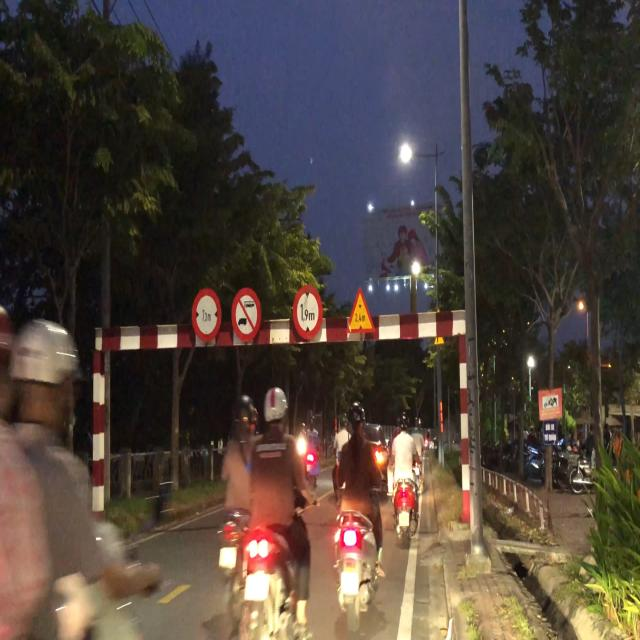Bien bao cam xe oto khach va xe oto tai: (228, 280, 268, 346)
Bien bao chieu cao tinh khong thuc te: (342, 281, 378, 337)
Bien bao han che chieu cao: (290, 280, 328, 345)
